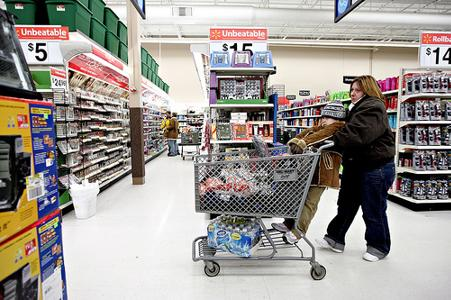person: (296, 74, 403, 266)
